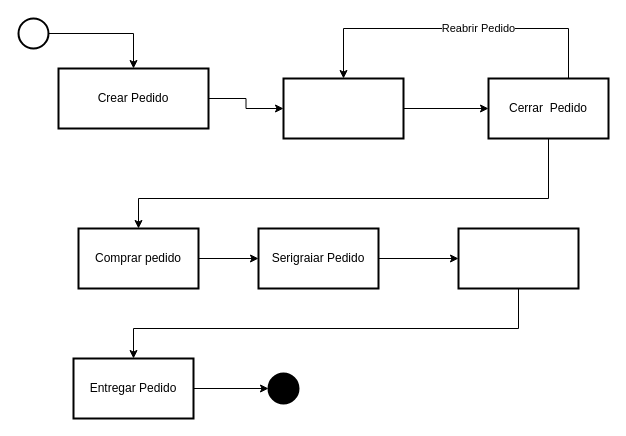
Image size: 626x436. Some labels were removed from this diagram. The centre of each missing label's shape, as x and y in pixels:
"Abrir Pedido" belongs at pixel 343 108.
"Empacar Pedido" belongs at pixel 518 258.
